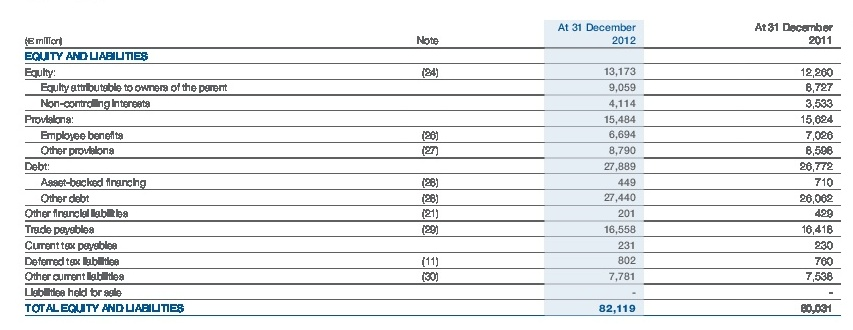table: (0, 0, 853, 330)
